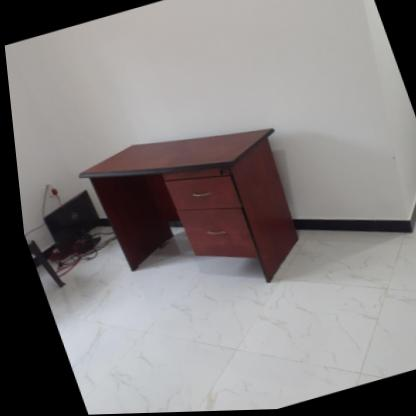Ceramic floor: (31, 200, 416, 415)
Table: (54, 94, 339, 332)
